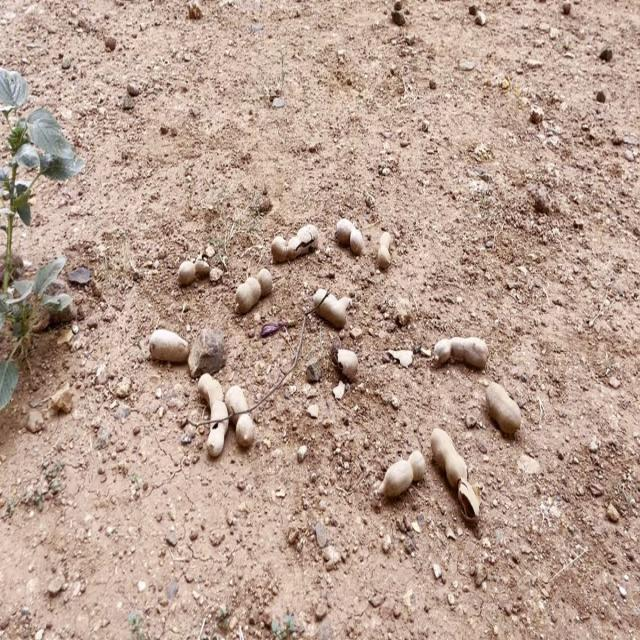tamarind: (430, 419, 470, 484), (426, 332, 488, 373), (196, 374, 227, 454), (378, 448, 424, 500), (224, 386, 256, 450), (236, 264, 270, 324), (271, 223, 320, 257), (147, 325, 189, 361), (307, 288, 345, 324), (332, 217, 363, 253), (376, 222, 397, 272)
